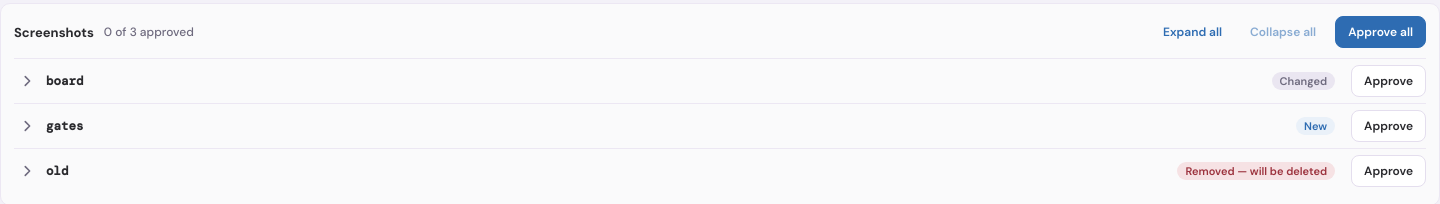
Test: Approve all sends { all: true } for the publish shown
Click the button "Approve all". click: x=1381, y=32
box: [1335, 16, 1426, 48]
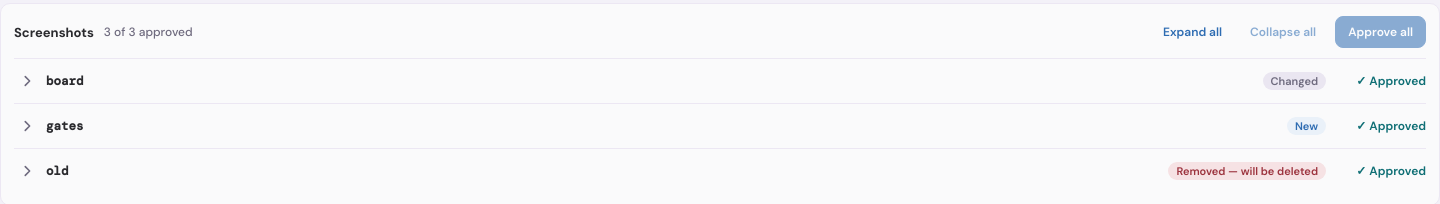
Expected: the text "3 of 3 approved" is shown, [104, 24, 193, 40]
